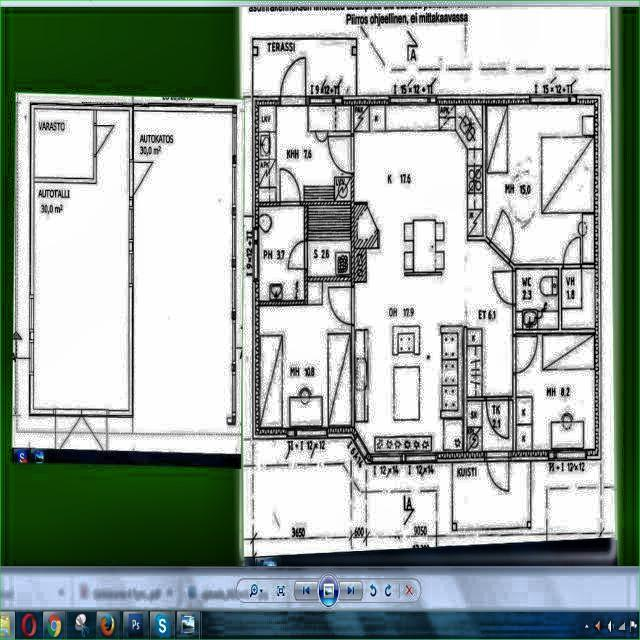room: (486, 105, 594, 264), (259, 282, 351, 428), (516, 334, 595, 450), (259, 106, 351, 201), (259, 207, 305, 300), (307, 206, 351, 277), (516, 269, 558, 328), (467, 401, 513, 451), (562, 269, 595, 329)
